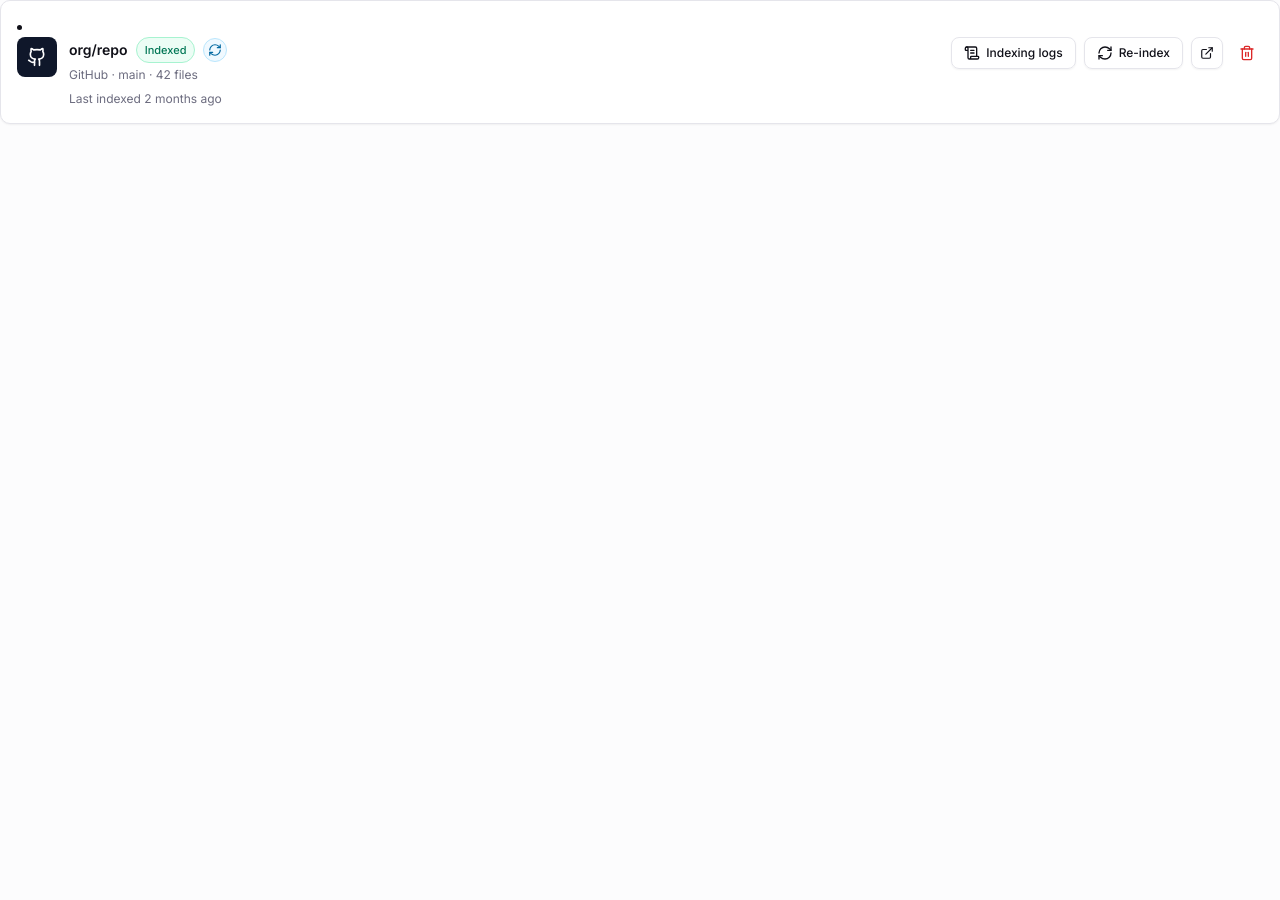
Test: RepoCard › shows an error when soft detach fails
Click the button named "Delete". click: (1247, 53)
box: [1231, 37, 1263, 69]
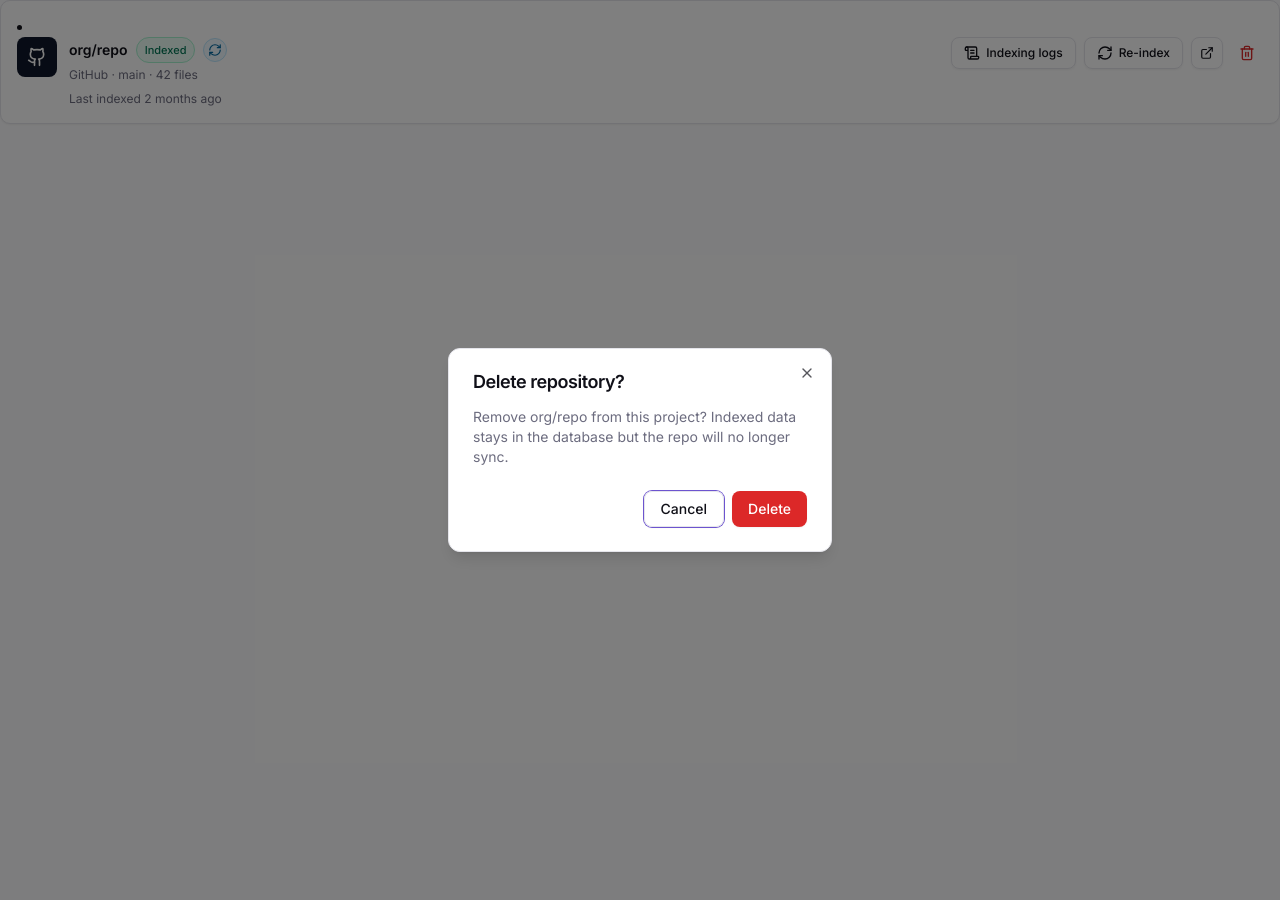
Expected: the text "Remove org/repo from this project" is shown, [473, 408, 796, 465]
Click the button "Delete". click: (770, 509)
box: [732, 491, 807, 527]
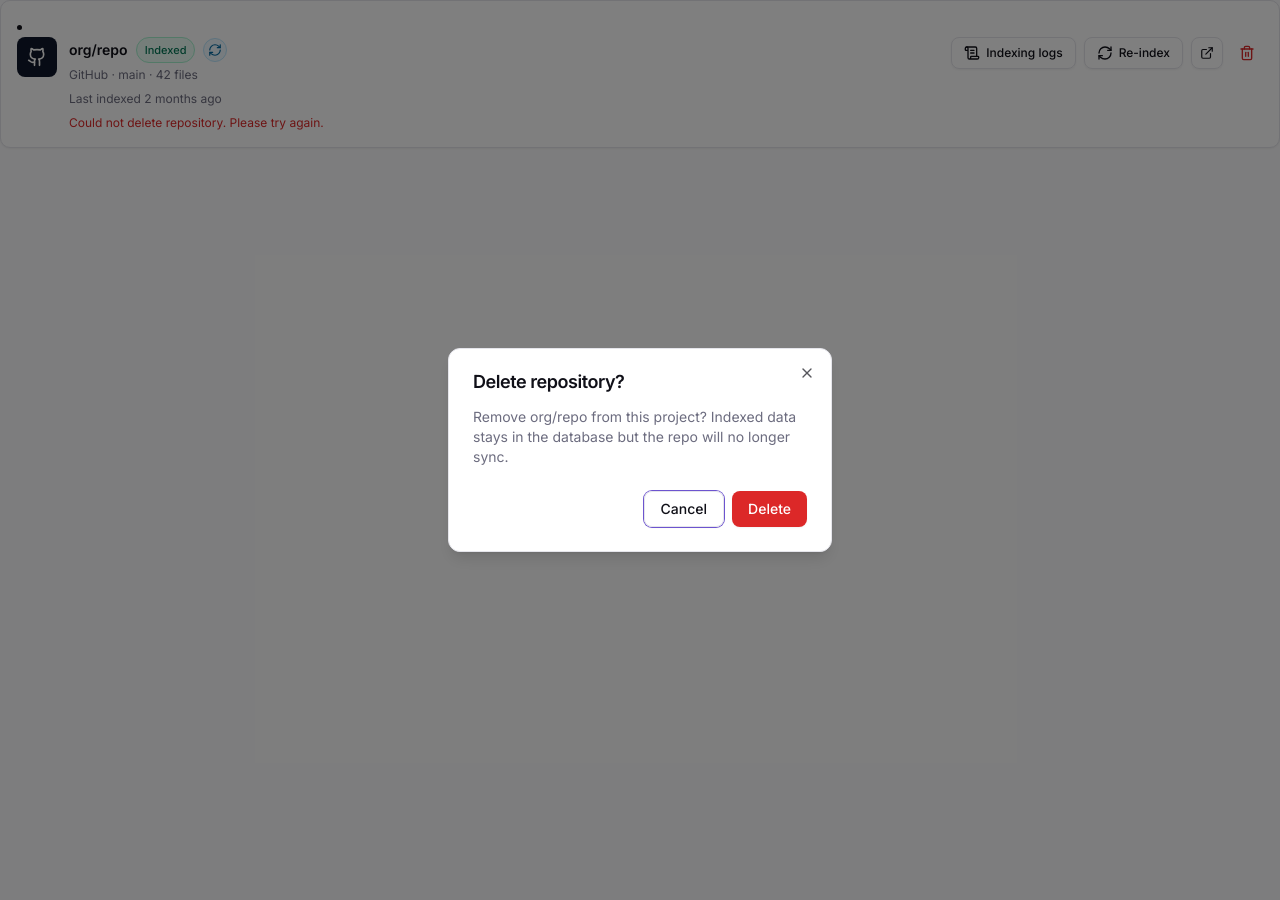
Expected: the text "Could not delete repository. Please try again." is shown, [69, 115, 324, 130]
